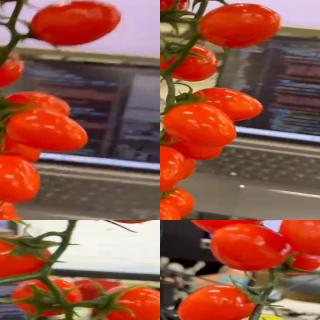tomato: (29, 0, 121, 49), (198, 2, 284, 49), (5, 110, 89, 155), (213, 224, 290, 272), (162, 100, 239, 146), (185, 87, 266, 124), (10, 276, 82, 316), (180, 285, 259, 320), (0, 235, 53, 283), (93, 283, 160, 320), (160, 44, 220, 84), (0, 154, 43, 205), (162, 128, 226, 162), (0, 90, 70, 120), (160, 143, 194, 195), (0, 130, 45, 165), (280, 220, 320, 258), (160, 187, 195, 220), (0, 45, 25, 88), (184, 220, 266, 233), (160, 0, 190, 23)
